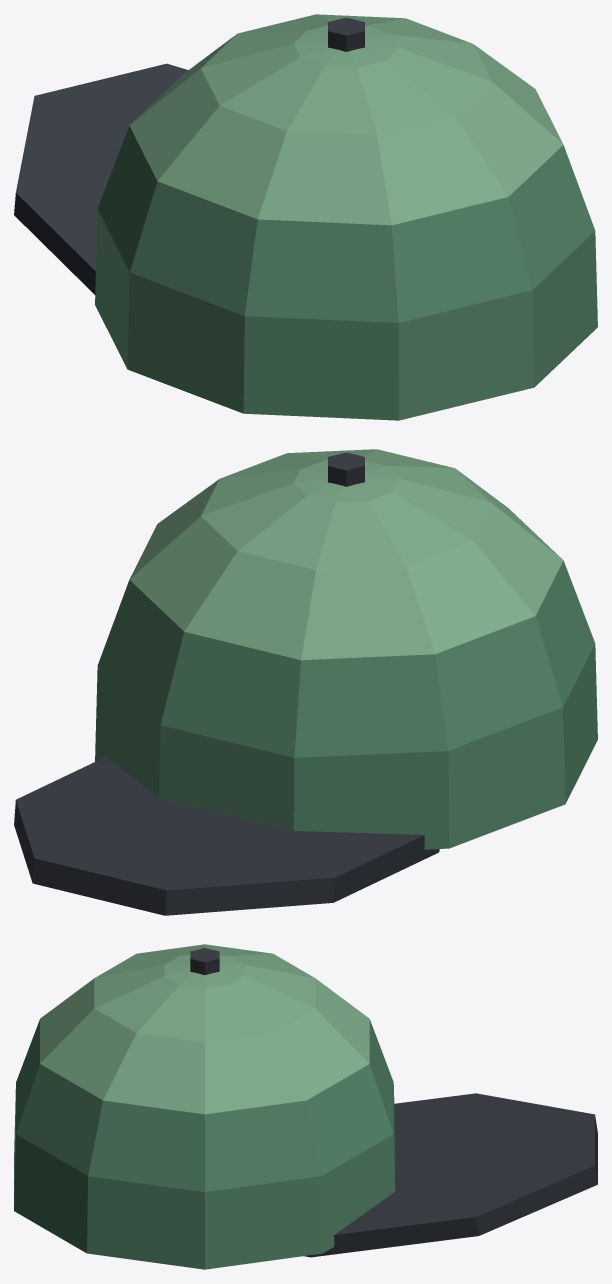
The model's file is Item_cap.fbx.
The picture shows the model from 3 angles, top to bottom: view 1: azimuth 30°, elevation 25°; view 2: azimuth 150°, elevation 25°; view 3: azimuth 270°, elevation 25°; orthographic projection. The views are drawn at different scales.
Visible parts, largest first — view 1: Crown, Brim, Button; view 2: Crown, Brim, Button; view 3: Crown, Brim, Button.
Boxes of the visible parts, <box> form: Crown: <box>95,14,597,420</box>; Brim: <box>14,63,188,294</box>; Button: <box>328,17,364,51</box>; Crown: <box>95,449,597,849</box>; Brim: <box>14,757,439,915</box>; Button: <box>328,452,364,486</box>; Crown: <box>14,944,395,1269</box>; Brim: <box>304,1093,597,1257</box>; Button: <box>190,948,219,974</box>.
Bounding box in the file's own units: 0.2565 × 0.1802 × 0.3732.
